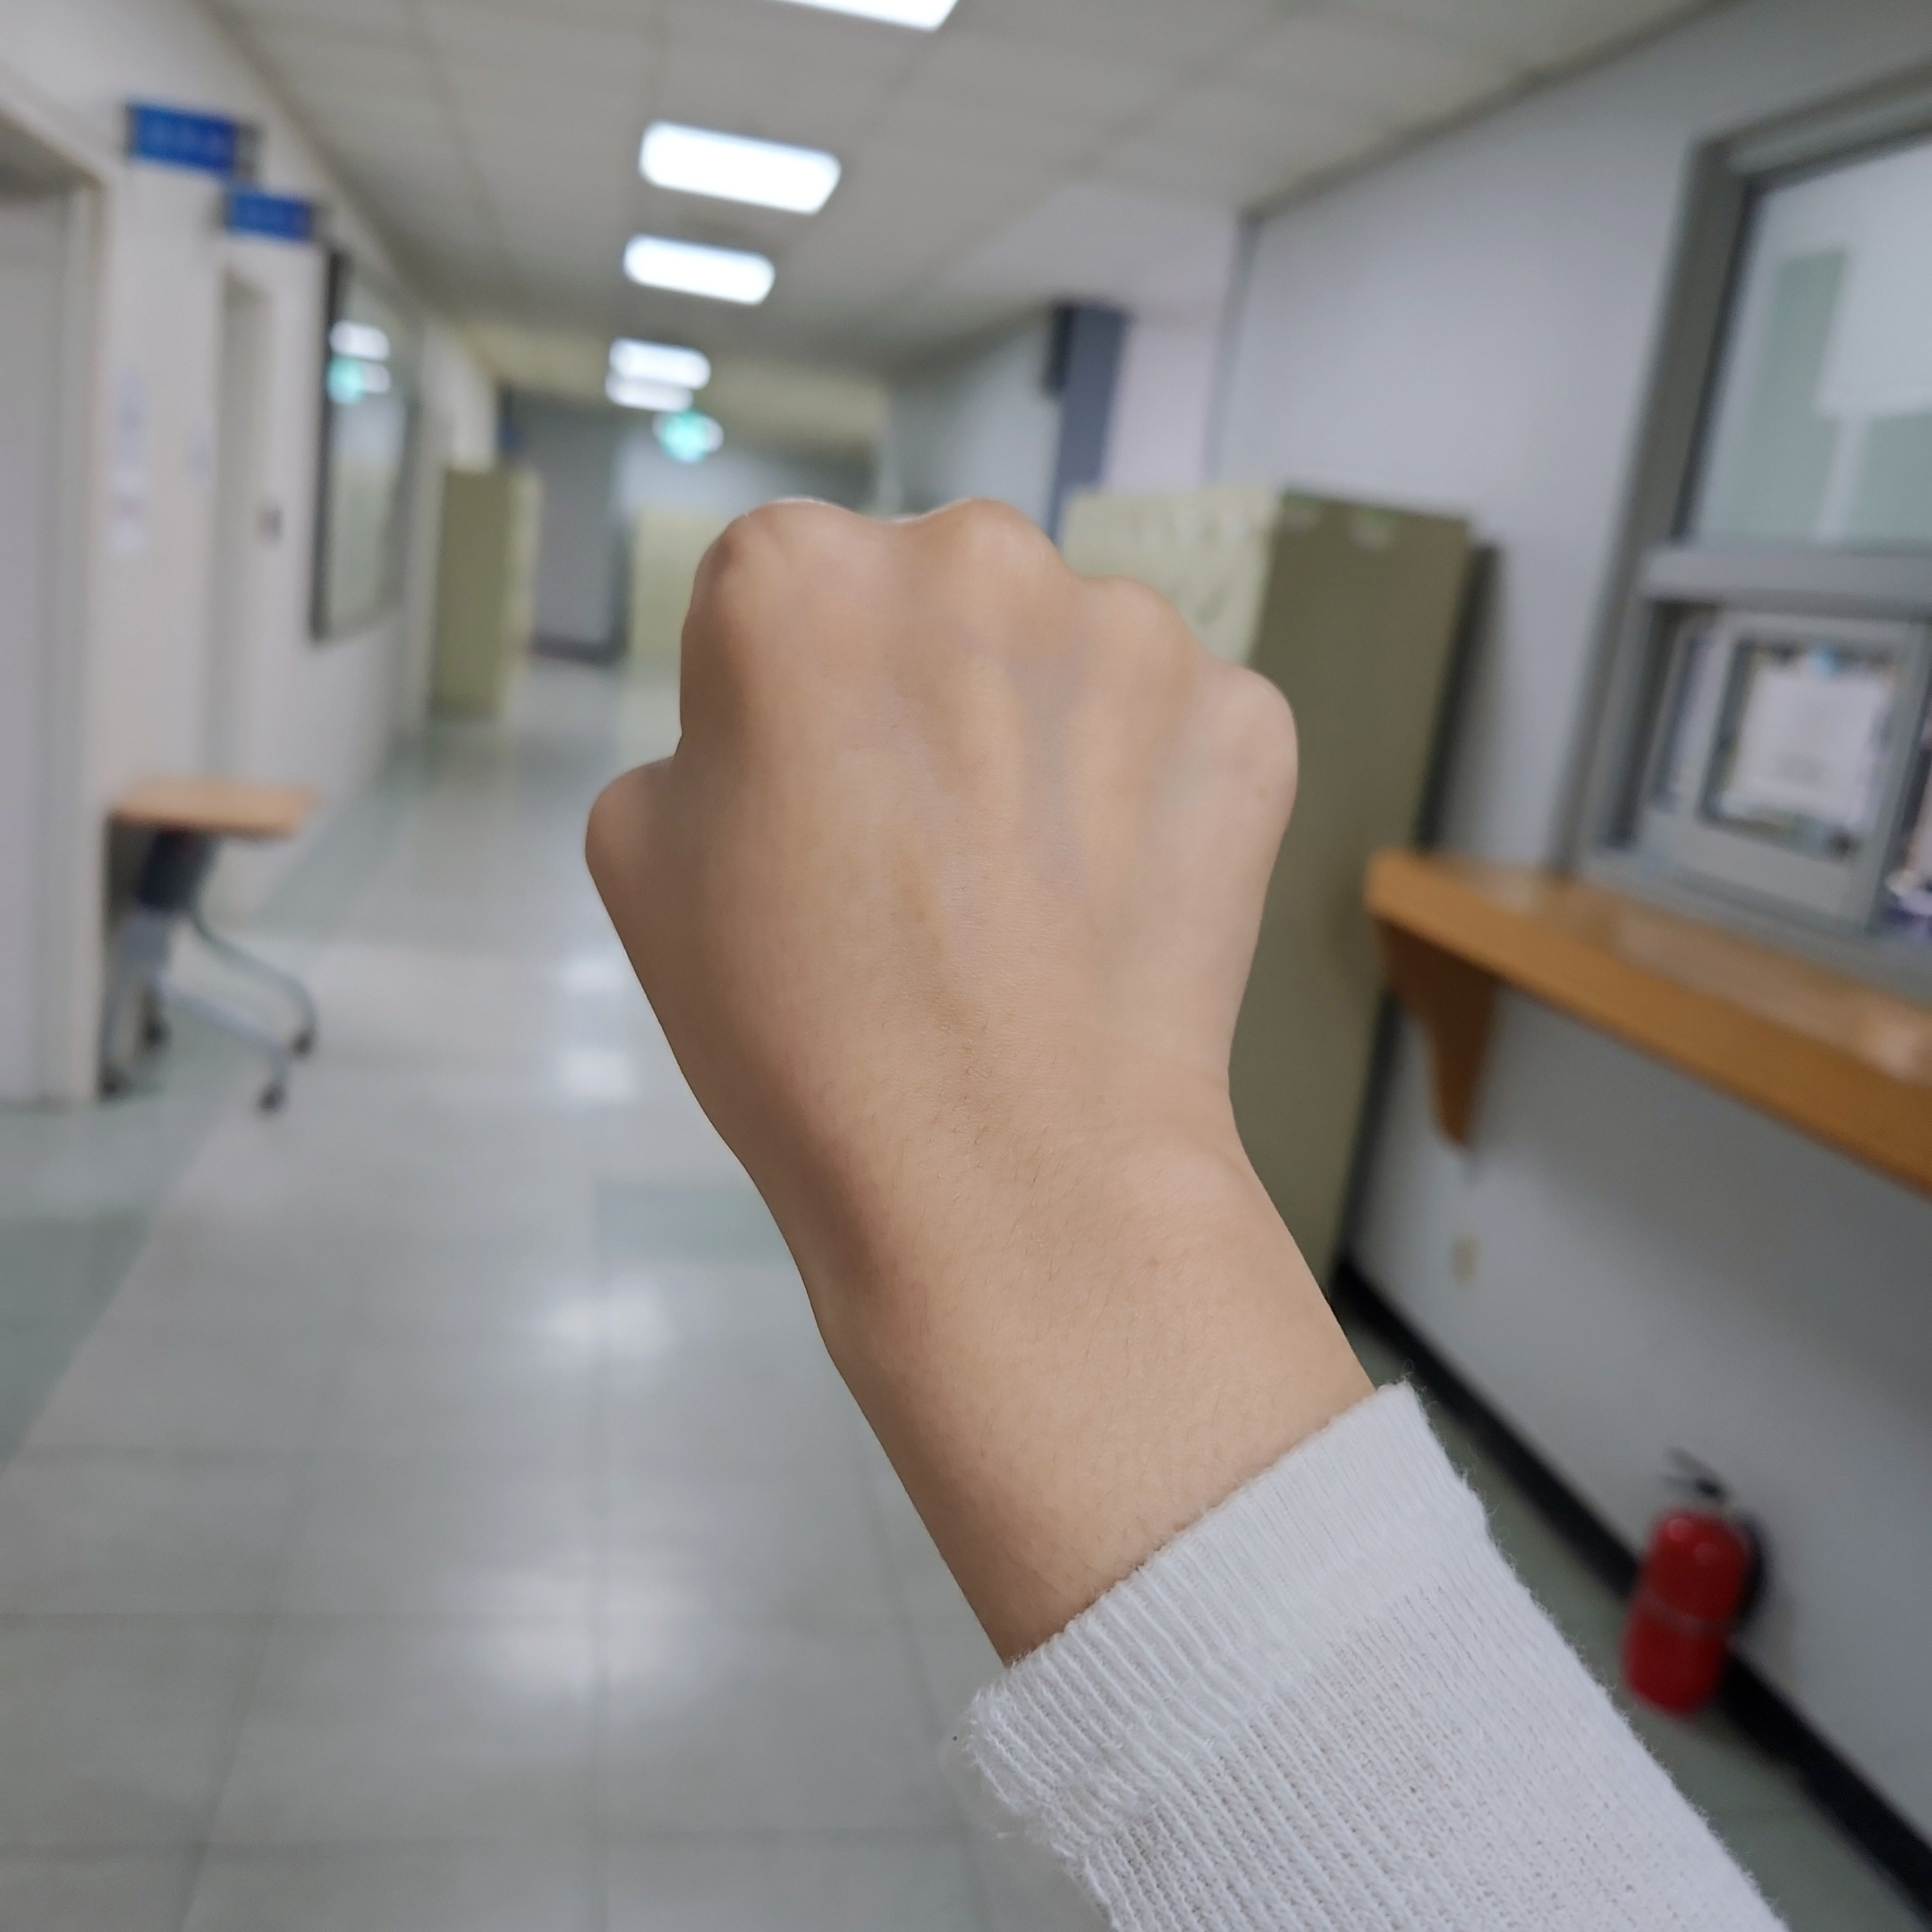smile: (580, 494, 1309, 1191)
